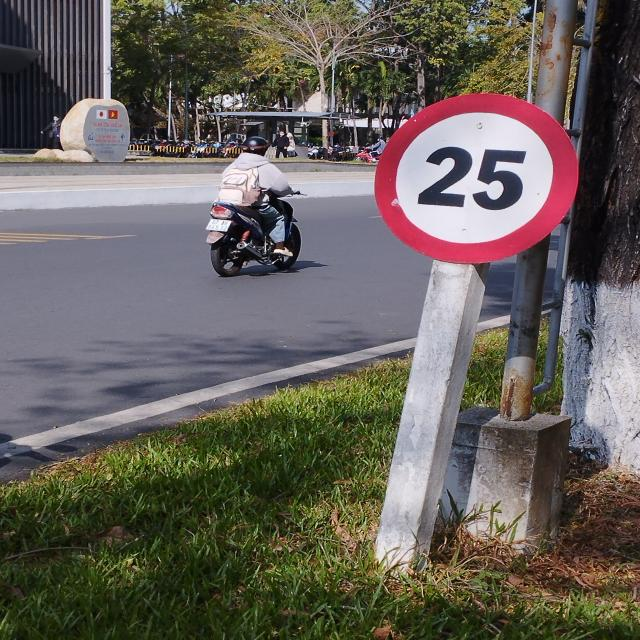Tre_Em: (376, 92, 580, 266)
